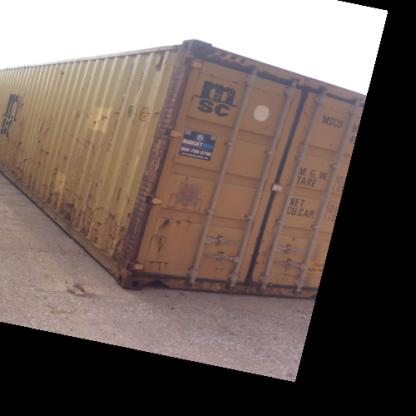Damage: (53, 182, 143, 267), (151, 214, 194, 249), (34, 117, 57, 161), (86, 105, 124, 131), (11, 134, 32, 180), (70, 131, 104, 155), (38, 170, 56, 208), (144, 253, 176, 274), (147, 104, 163, 119), (15, 114, 30, 129), (72, 103, 83, 121), (61, 148, 72, 162), (18, 86, 26, 104), (58, 67, 66, 76)
